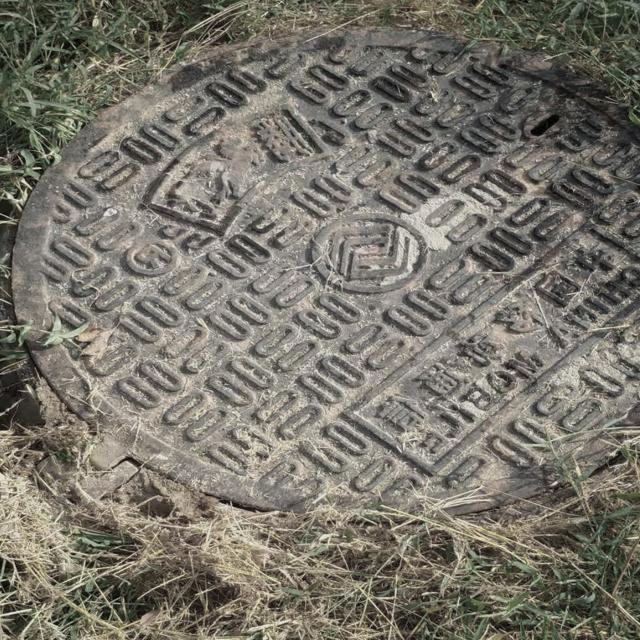good: (6, 28, 640, 521)
